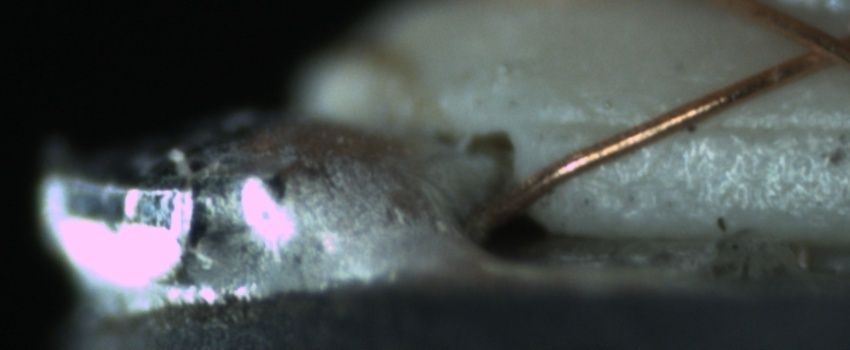CL: (777, 13, 848, 78)
DL: (538, 96, 843, 160)
